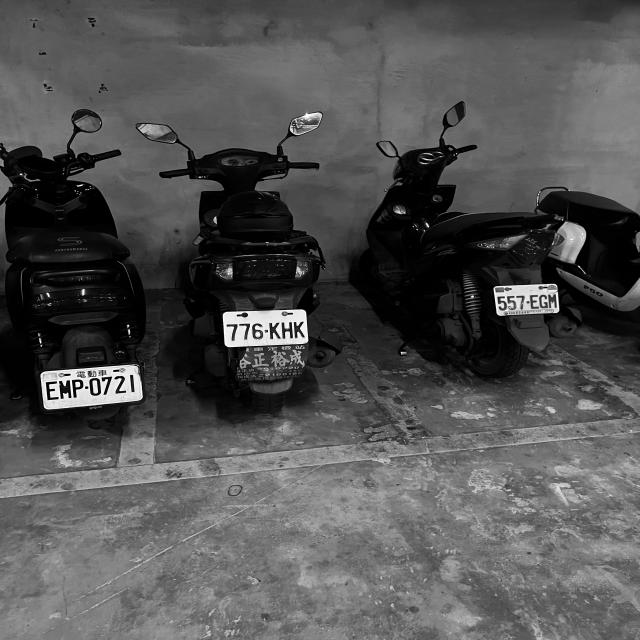-: (526, 300, 530, 304), (264, 328, 268, 332), (85, 386, 88, 389)
0: (88, 378, 102, 396)
1: (128, 372, 136, 392)
2: (114, 375, 128, 395)
5: (506, 296, 516, 310), (496, 296, 506, 310)
6: (252, 322, 264, 340)
7: (102, 376, 114, 396), (239, 322, 251, 340), (226, 323, 238, 341), (516, 295, 526, 309)
E: (45, 380, 59, 400), (530, 294, 540, 308)
G: (539, 294, 548, 308)
H: (282, 322, 294, 338)
K: (268, 322, 282, 339), (293, 321, 305, 338)
M: (58, 380, 73, 400), (548, 294, 558, 308)
P: (71, 379, 86, 398)
plate: (40, 370, 148, 400), (221, 313, 310, 343), (494, 284, 560, 314)
